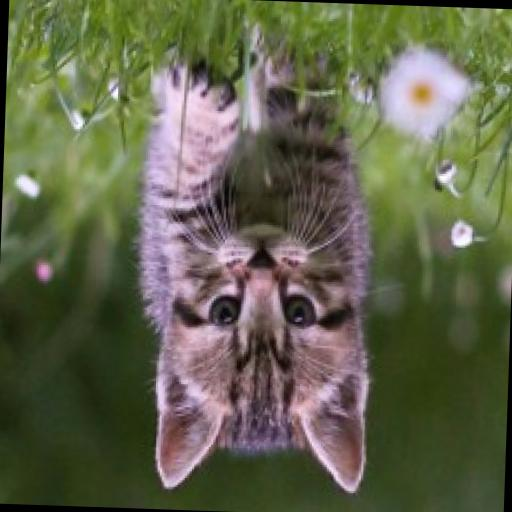cat: (124, 25, 388, 504)
